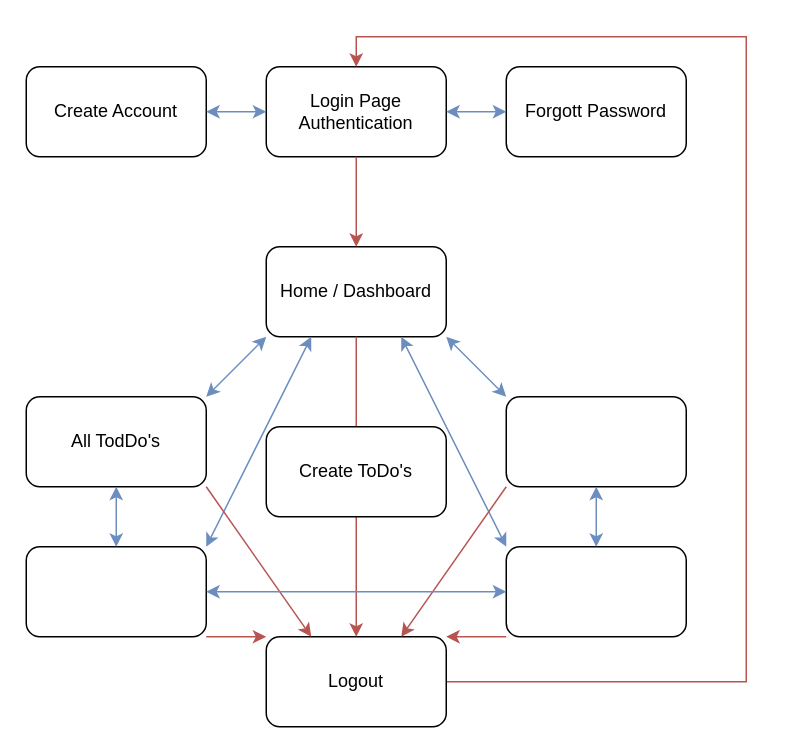
Some shapes in this 785 by 753 pixel diagram are drawn without their labels. The box of each missing label's shape, as (x1, y1, x2, y2) in pixels:
Today's ToDo's: (25, 545, 206, 637)
Tomorrow's ToDo's: (505, 395, 686, 487)
Topics: (505, 545, 686, 637)
